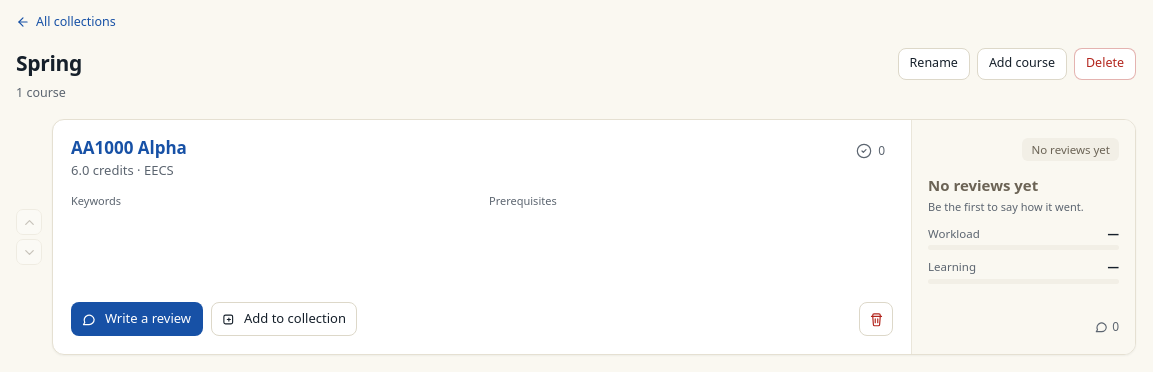
Test: the saved-only rule › offers only saved courses the collection does not already hold
The image size is (1153, 372).
Click the button "Add course" at (1022, 64), box [977,48,1067,80]
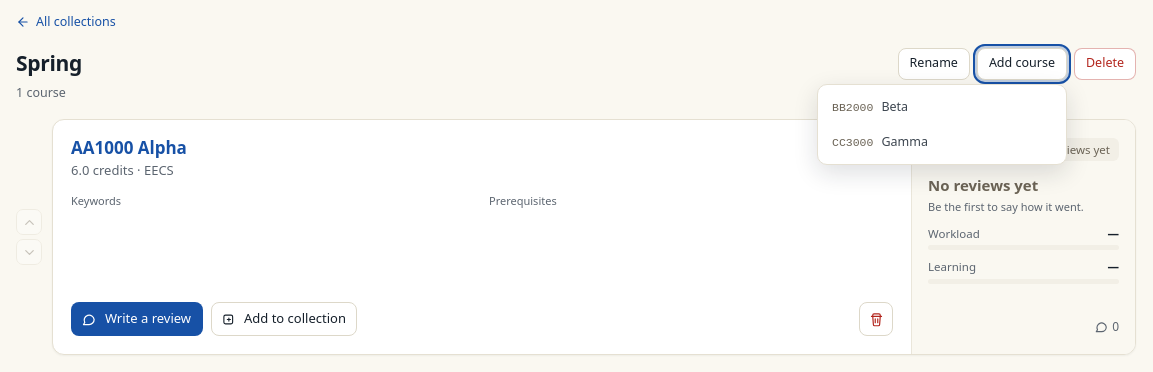
Result: the menu items read "BB2000Beta", "CC3000Gamma", in this order at [823,90,1061,125]; [823,124,1061,159]
